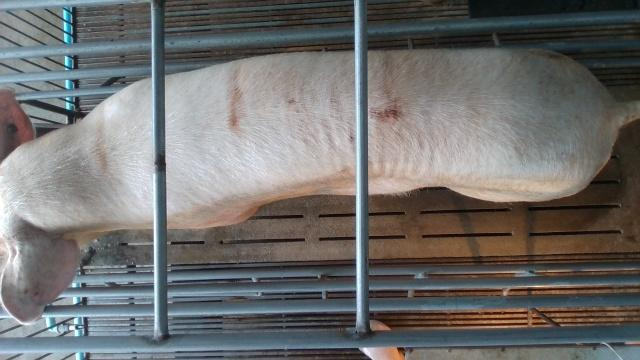sow-stand-feed: (0, 47, 640, 325)
